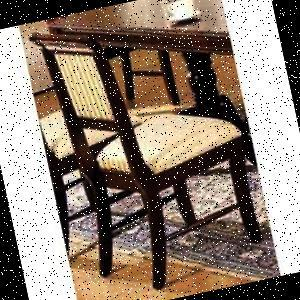Silla: (26, 0, 268, 299)
